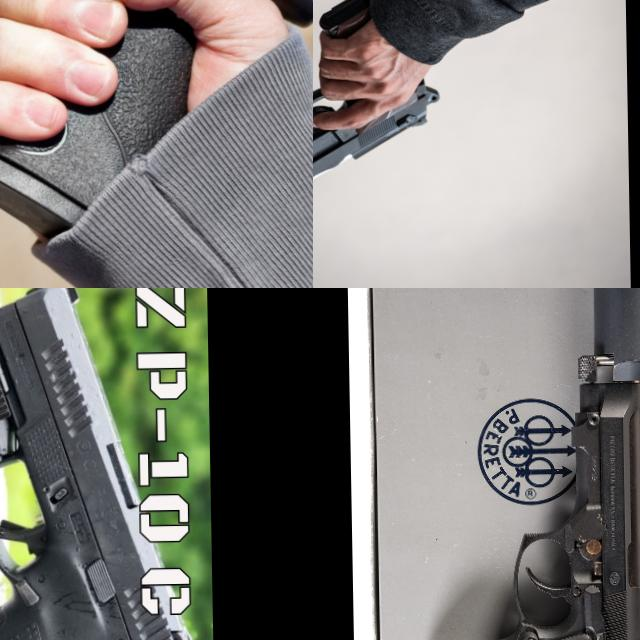handgun: (0, 0, 313, 285), (0, 288, 214, 640), (397, 376, 640, 640), (313, 75, 444, 224)
